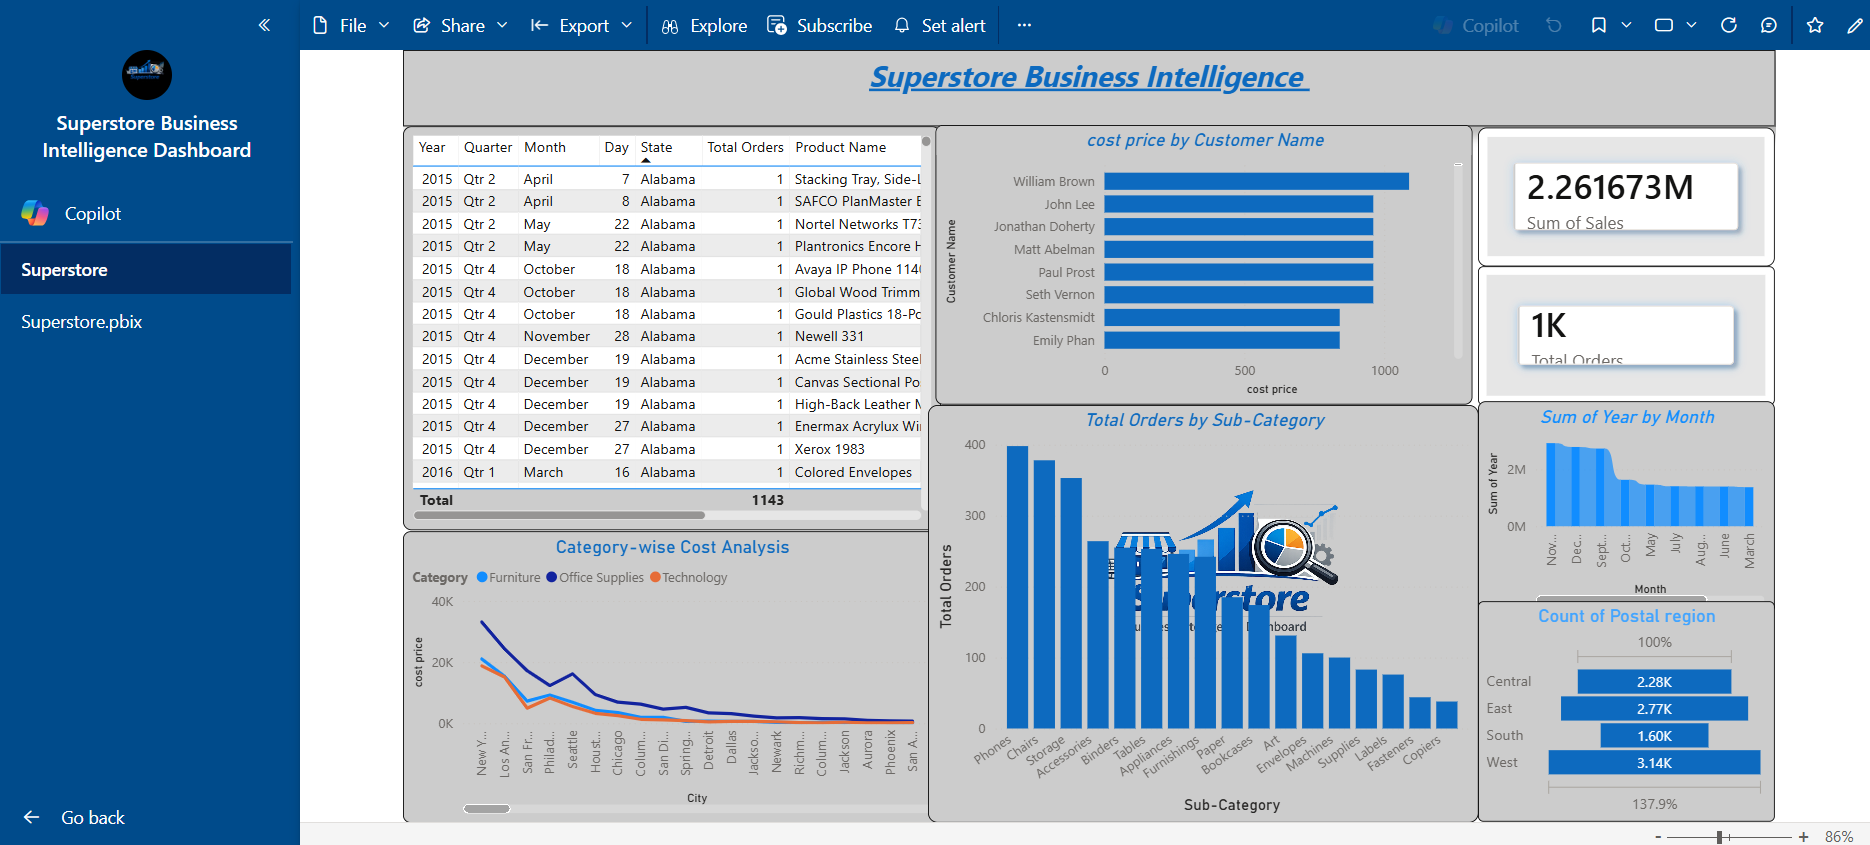

This screenshot's page, from the dashboard's own definition file:
{"tool":"powerbi","page":{"name":"Page 1","canvas":[1280,720],"ordinal":0},"visuals":[{"type":"textbox","box":[0,0,1280.3,71.4],"z":0},{"type":"tableEx","fields":{"Values":["Superstore Business Intelligence Dashboard.Order Date.Variation.Date Hierarchy.Year","Superstore Business Intelligence Dashboard.Order Date.Variation.Date Hierarchy.Quarter","Superstore Business Intelligence Dashboard.Order Date.Variation.Date Hierarchy.Month","Superstore Business Intelligence Dashboard.Order Date.Variation.Date Hierarchy.Day","Superstore Business Intelligence Dashboard.State","Superstore Business Intelligence Dashboard.Total Orders","Superstore Business Intelligence Dashboard.Product Name"]},"box":[0,71.3,501.6,376.6],"z":1000},{"type":"clusteredBarChart","fields":{"Category":["Superstore Business Intelligence Dashboard.Customer Name"],"Y":["Superstore Business Intelligence Dashboard.cost price"]},"box":[501.6,71.3,501.6,260.9],"z":2000},{"type":"lineChart","title":"Category-wise Cost Analysis","fields":{"Category":["Superstore Business Intelligence Dashboard.City"],"Series":["Superstore Business Intelligence Dashboard.Category"],"Y":["Superstore Business Intelligence Dashboard.cost price"]},"box":[0,448.5,501.5,272.1],"z":3000},{"type":"cardVisual","fields":{"Data":["Sum(Superstore Business Intelligence Dashboard.Sales)"]},"box":[1002.9,72.1,276.5,129.4],"z":4000},{"type":"cardVisual","fields":{"Data":["Superstore Business Intelligence Dashboard.Total Orders"]},"box":[1002.9,201.5,276.5,129.4],"z":5000},{"type":"lineClusteredColumnComboChart","fields":{"Y":["Superstore Business Intelligence Dashboard.Total Orders"],"Category":["Superstore Business Intelligence Dashboard.Sub-Category"]},"box":[489.7,330.9,513.2,389.7],"z":6000},{"type":"ribbonChart","fields":{"Category":["Superstore Business Intelligence Dashboard.Month"],"Y":["Sum(Superstore Business Intelligence Dashboard.Year)"]},"box":[1002.9,327.9,276.5,198.5],"z":7000},{"type":"funnel","title":"Count of Postal region","fields":{"Category":["Superstore Business Intelligence Dashboard.Region","Superstore Business Intelligence Dashboard.Ship Date.Variation.Date Hierarchy.Year","Superstore Business Intelligence Dashboard.Ship Date.Variation.Date Hierarchy.Quarter","Superstore Business Intelligence Dashboard.Ship Date.Variation.Date Hierarchy.Month","Superstore Business Intelligence Dashboard.Ship Date.Variation.Date Hierarchy.Day","Superstore Business Intelligence Dashboard.State"],"Y":["CountNonNull(Superstore Business Intelligence Dashboard.Postal Code)"]},"box":[1002.9,514.7,276.5,205.9],"z":8000}]}

Visuals, with their boxes on the page's 1280x720 design canvas (x1, y1, x2, y2). These are canvas units, not pixel positions in the 1870x845 screenshot, which may show the page scaled, cropped or inside an application window:
textbox: [left=0, top=0, right=1280, bottom=71]
tableEx - Superstore Business Intelligence Dashboard.Order Date.Variation.Date Hierarchy.Year x Superstore Business Intelligence Dashboard.Order Date.Variation.Date Hierarchy.Quarter: [left=0, top=71, right=502, bottom=448]
clusteredBarChart - Superstore Business Intelligence Dashboard.Customer Name x Superstore Business Intelligence Dashboard.cost price: [left=502, top=71, right=1003, bottom=332]
"Category-wise Cost Analysis" lineChart: [left=0, top=448, right=502, bottom=721]
cardVisual - Sum(Superstore Business Intelligence Dashboard.Sales): [left=1003, top=72, right=1279, bottom=202]
cardVisual - Superstore Business Intelligence Dashboard.Total Orders: [left=1003, top=202, right=1279, bottom=331]
lineClusteredColumnComboChart - Superstore Business Intelligence Dashboard.Total Orders x Superstore Business Intelligence Dashboard.Sub-Category: [left=490, top=331, right=1003, bottom=721]
ribbonChart - Superstore Business Intelligence Dashboard.Month x Sum(Superstore Business Intelligence Dashboard.Year): [left=1003, top=328, right=1279, bottom=526]
"Count of Postal region" funnel: [left=1003, top=515, right=1279, bottom=721]
